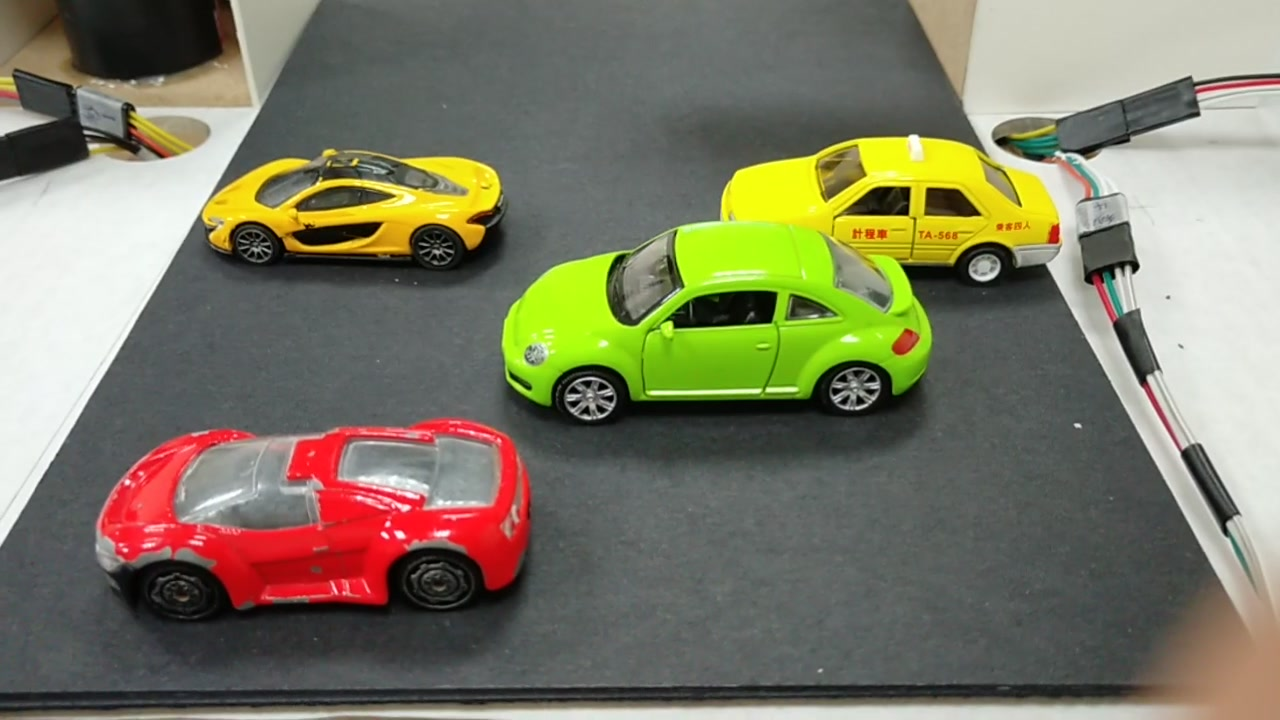car: (492, 225, 933, 419), (106, 423, 509, 599), (726, 124, 1058, 277), (201, 149, 512, 276)
